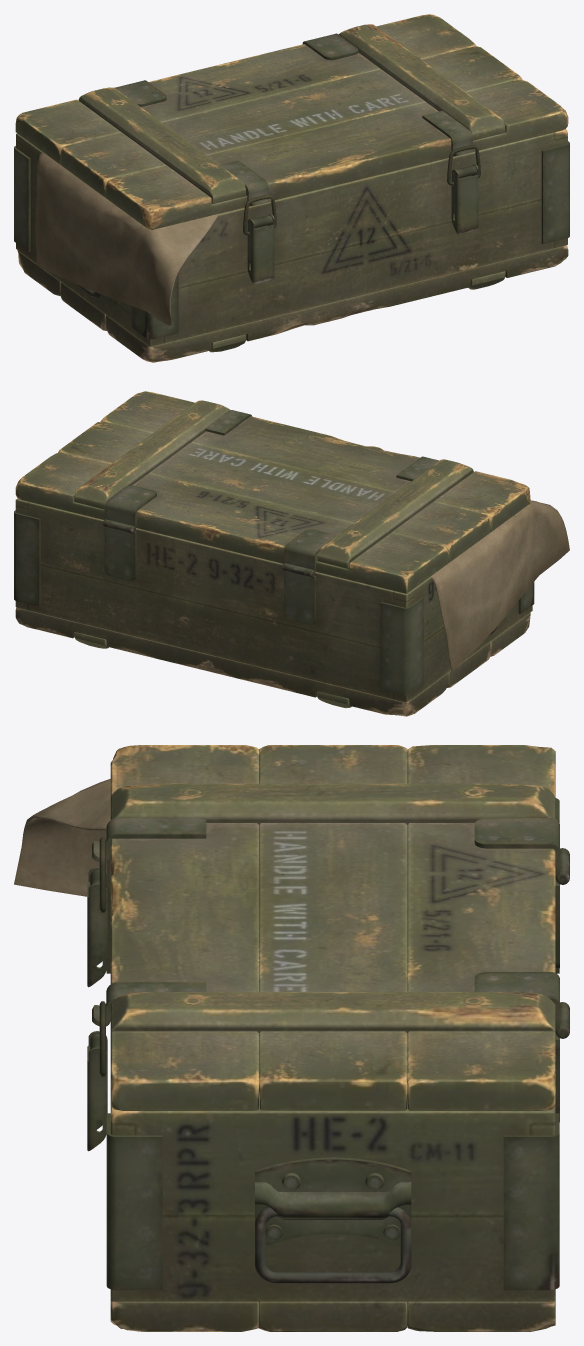
Rendered from crate.glb.
3 views of the same model, one above another, from view 1: azimuth 30°, elevation 25°; view 2: azimuth 150°, elevation 25°; view 3: azimuth 270°, elevation 25° (orthographic). The views are drawn at different scales.
Visible parts, largest first — view 1: old_military_crate_lid_a; view 2: old_military_crate_lid_a; view 3: old_military_crate_lid_a.
Part boxes in pixels (left/top/right/bottom): old_military_crate_lid_a: left=14, top=14, right=569, bottom=362; old_military_crate_lid_a: left=14, top=391, right=569, bottom=716; old_military_crate_lid_a: left=14, top=745, right=569, bottom=1331.
Bounding box in the file's own units: 0.8154 × 0.3009 × 0.5376.
1 material, 1 textured.
